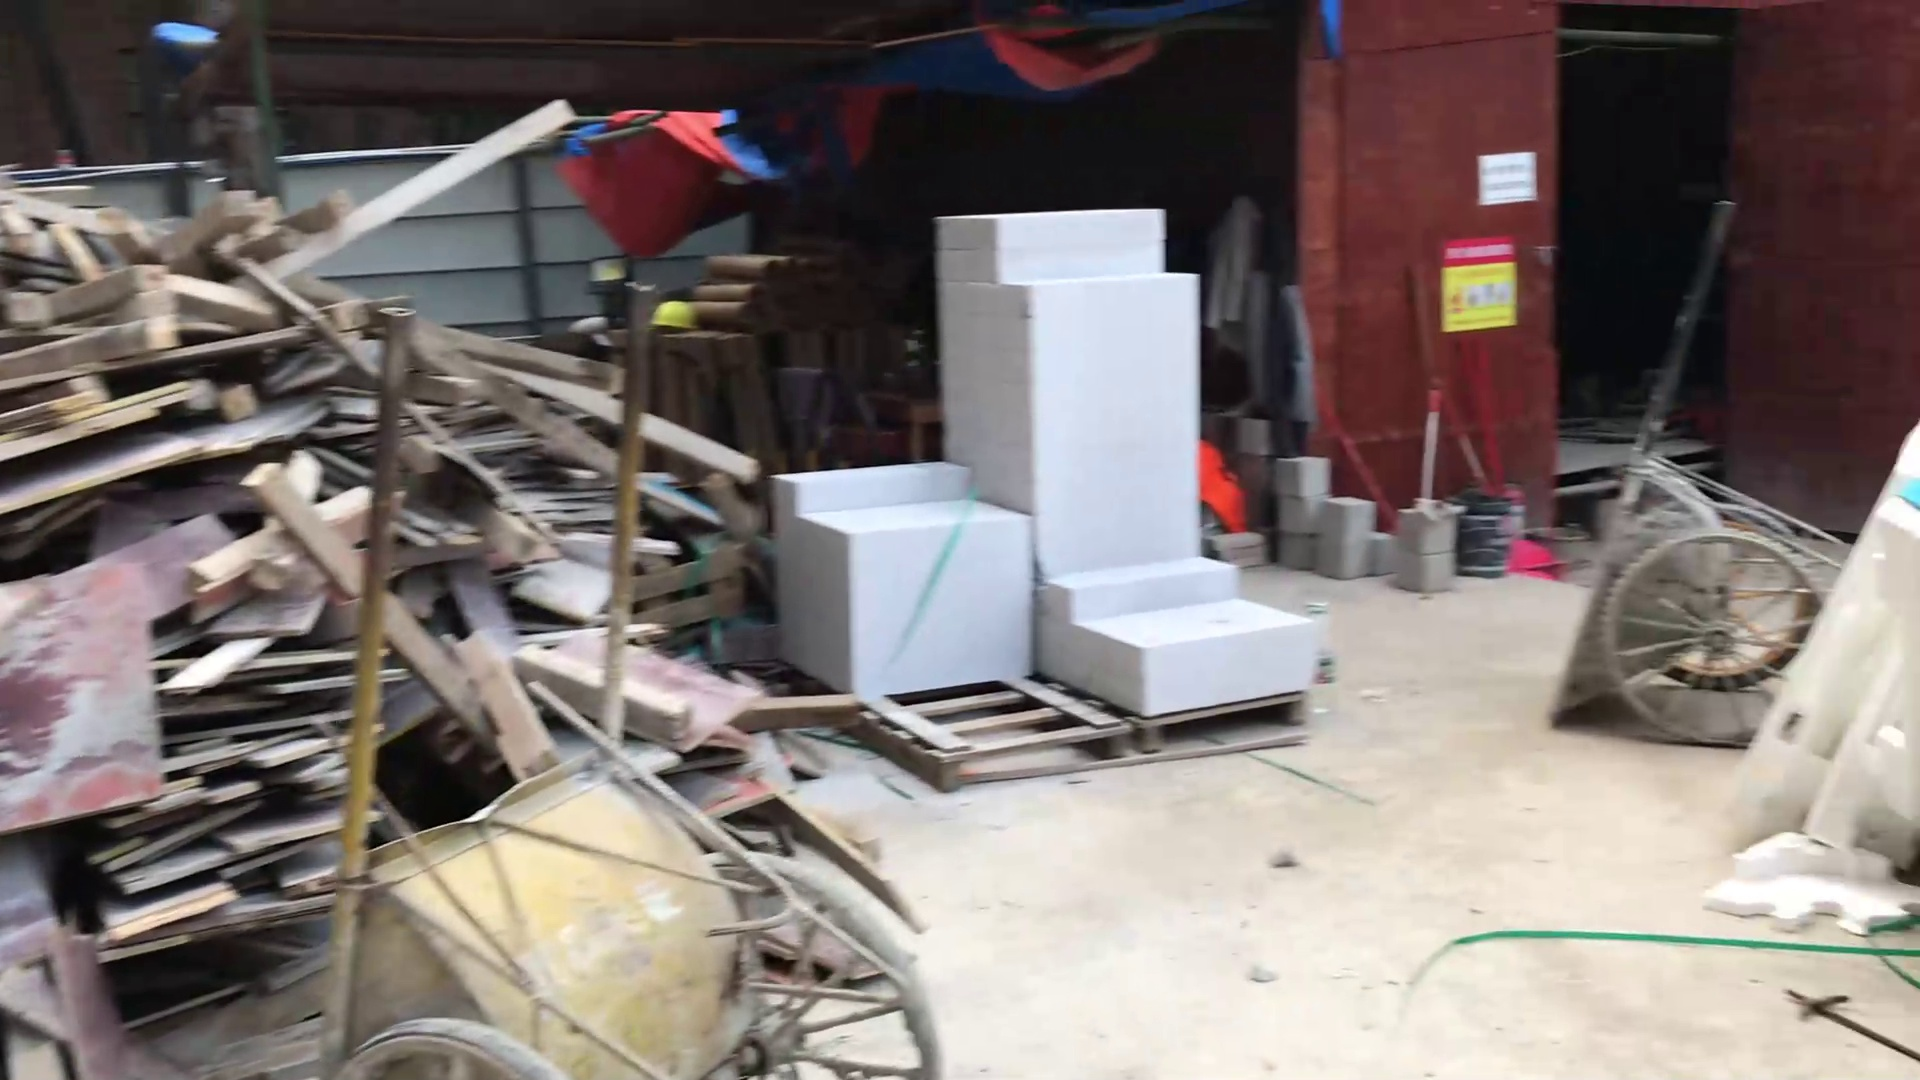brick: (746, 204, 1333, 728)
handcart: (285, 268, 960, 1080), (1543, 162, 1825, 757)
